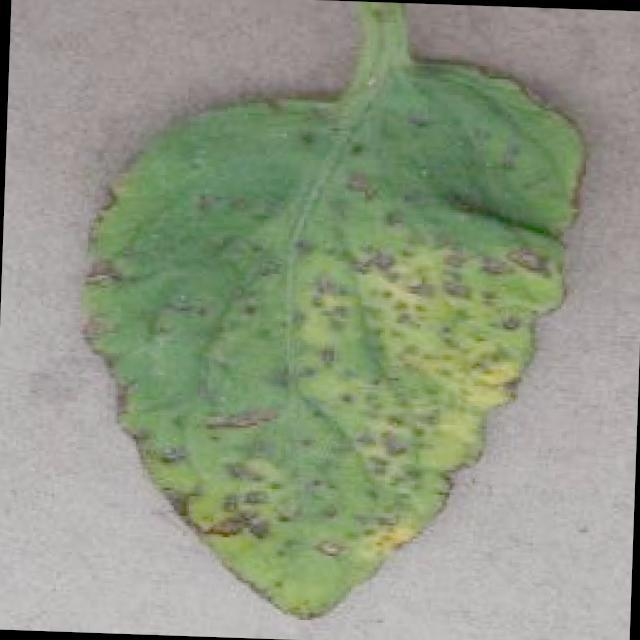Tomato bacterial spot leaf: (53, 31, 598, 640)
